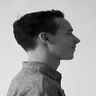ear: (34, 23, 56, 48)
